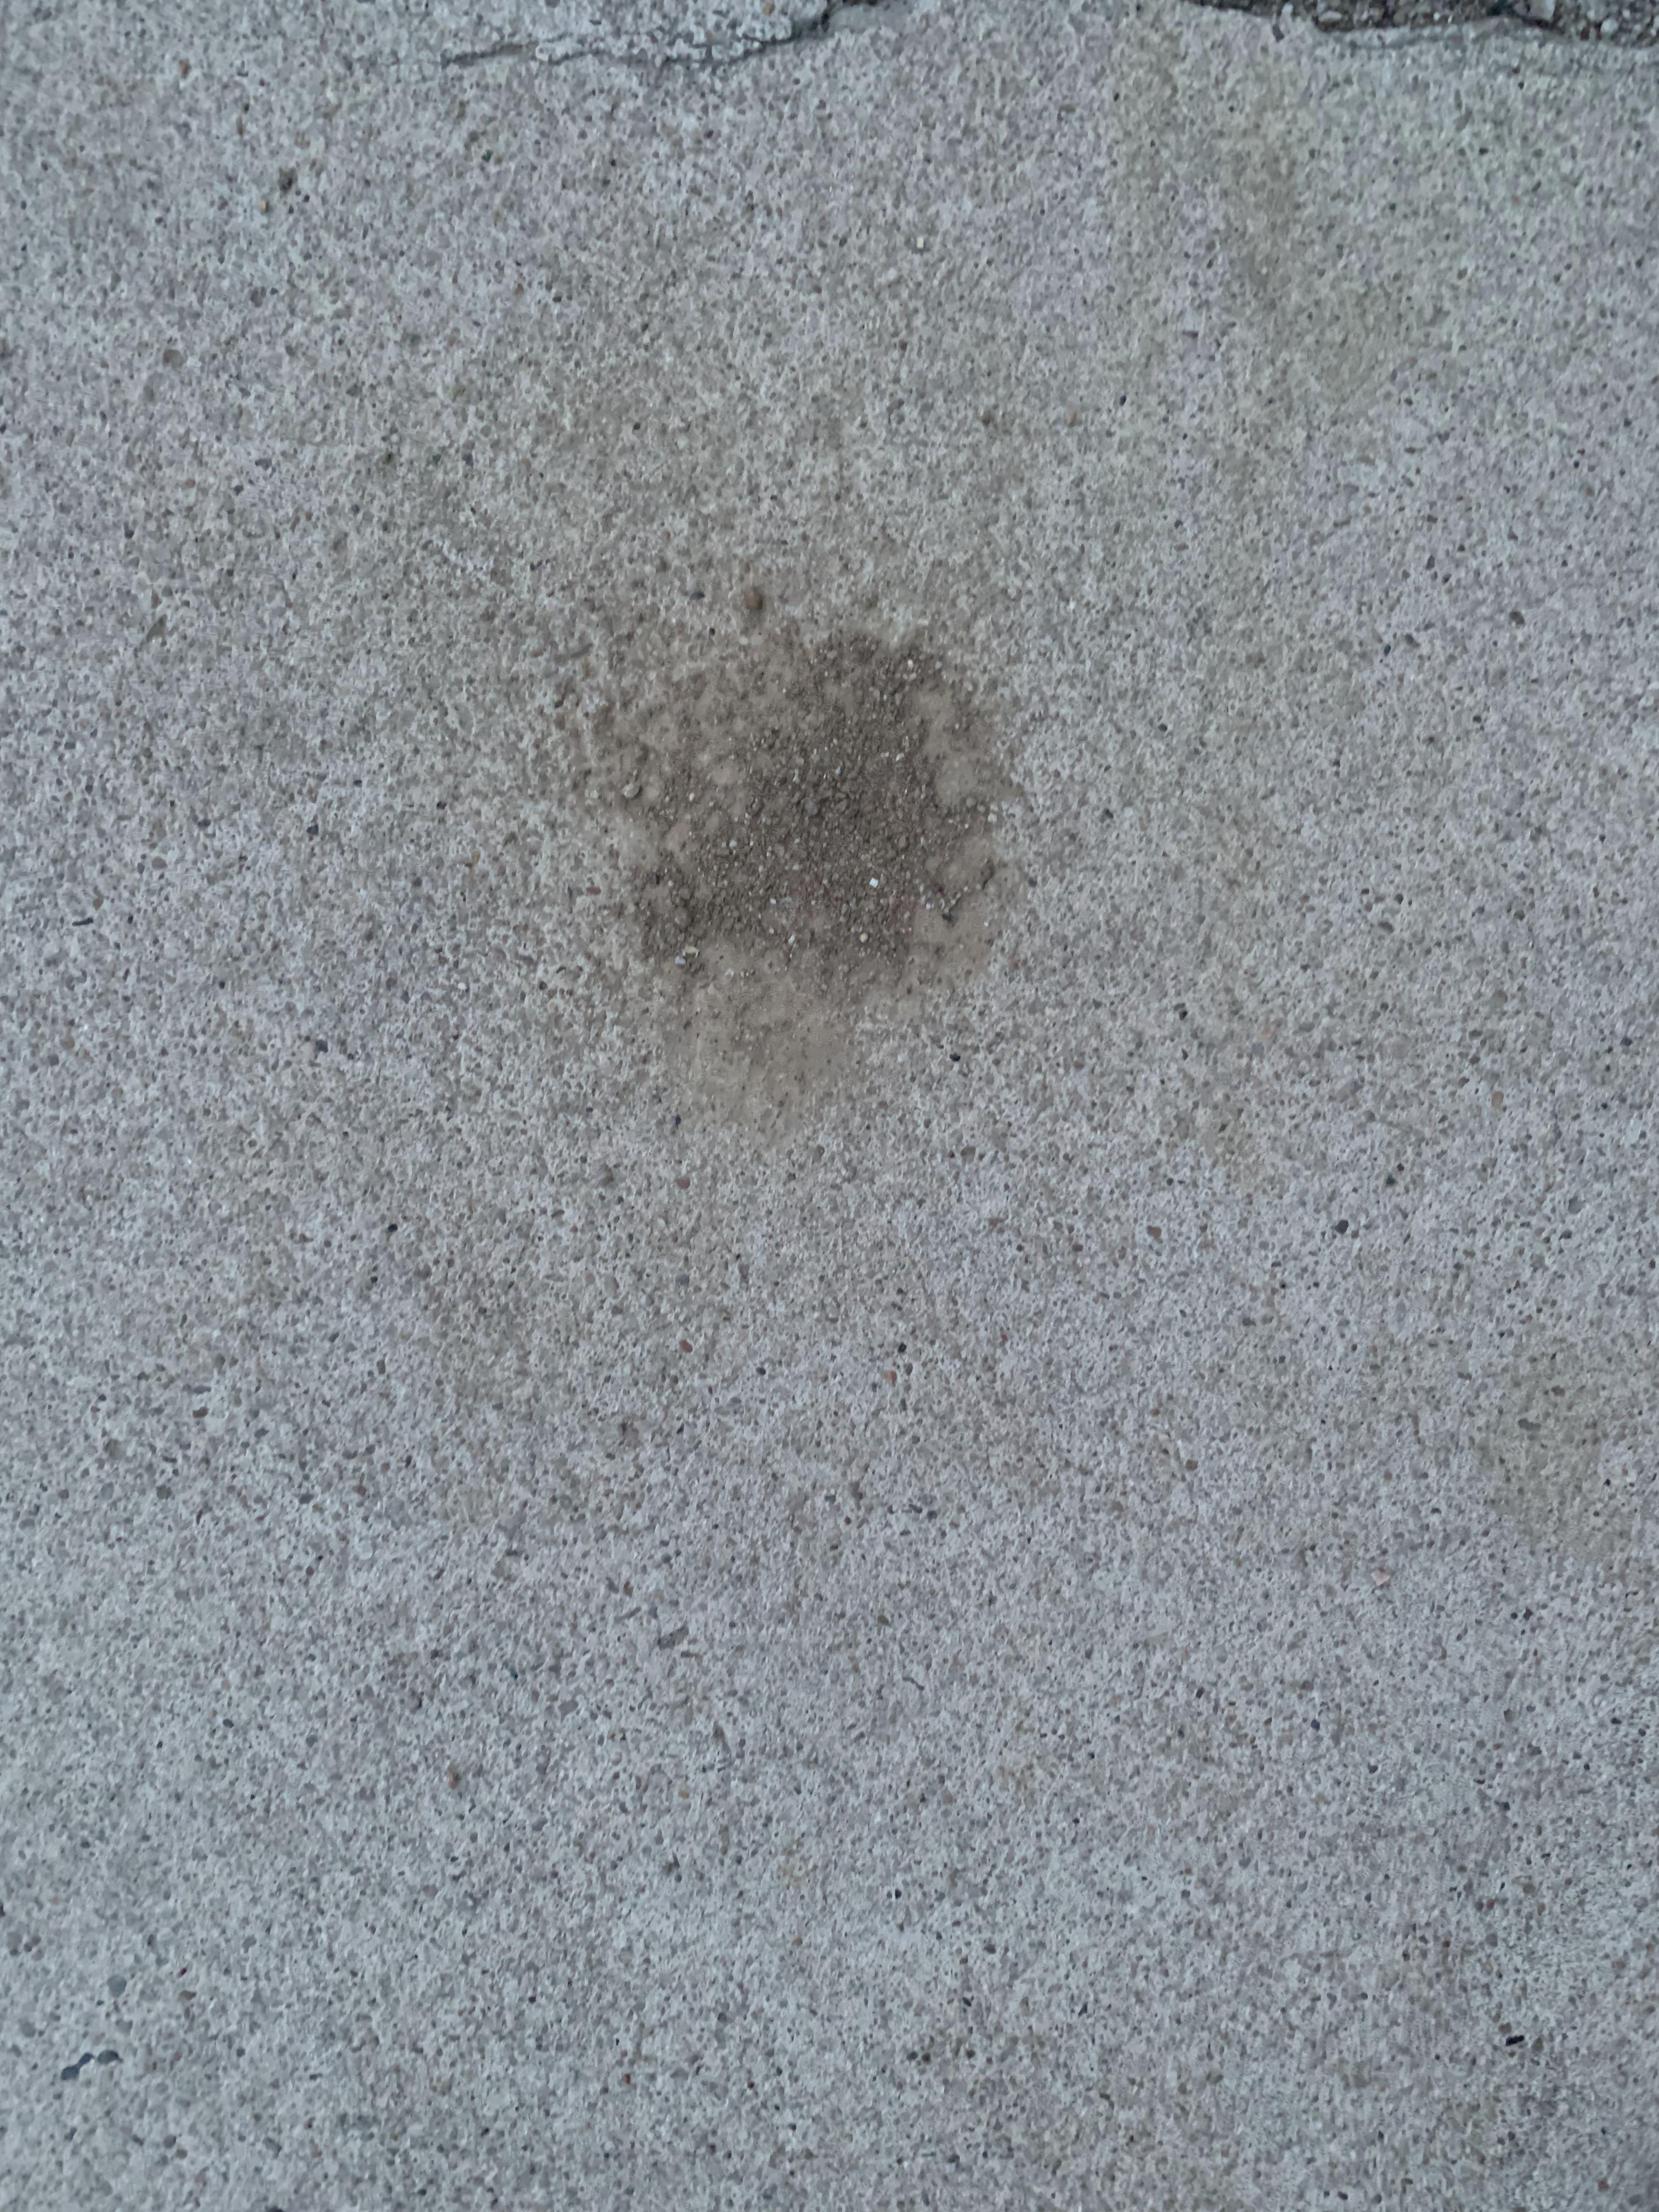ash pile: (605, 622, 1032, 1108)
